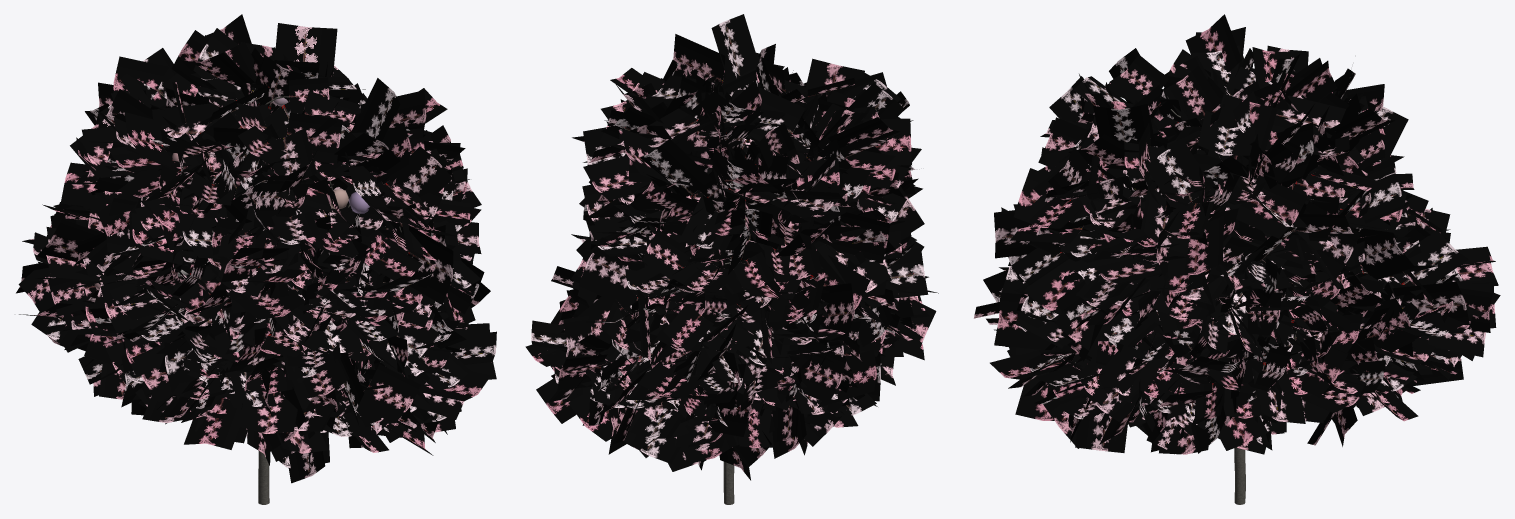
Rendered from tree_09_red_maple.glb.
3 views of the same model, side by side, from view 1: azimuth 30°, elevation 25°; view 2: azimuth 150°, elevation 25°; view 3: azimuth 270°, elevation 25° (orthographic). The views are drawn at different scales.
Parts seen in each view (by area): view 1: tree_09_red_maple.leaves, tree_09_red_maple.foliage_volume, tree_09_red_maple.trunk_branches; view 2: tree_09_red_maple.leaves, tree_09_red_maple.trunk_branches; view 3: tree_09_red_maple.leaves, tree_09_red_maple.trunk_branches.
Part boxes in pixels (x1,y1,x2,y2): tree_09_red_maple.leaves: (16,14,496,483); tree_09_red_maple.foliage_volume: (94,96,384,290); tree_09_red_maple.trunk_branches: (182,96,401,504); tree_09_red_maple.leaves: (525,14,938,480); tree_09_red_maple.trunk_branches: (700,262,734,504); tree_09_red_maple.leaves: (974,14,1500,454); tree_09_red_maple.trunk_branches: (1075,109,1296,504).
Bounding box in the file's own units: 6.42 × 7.4 × 8.08.
3 materials, 2 textured.
